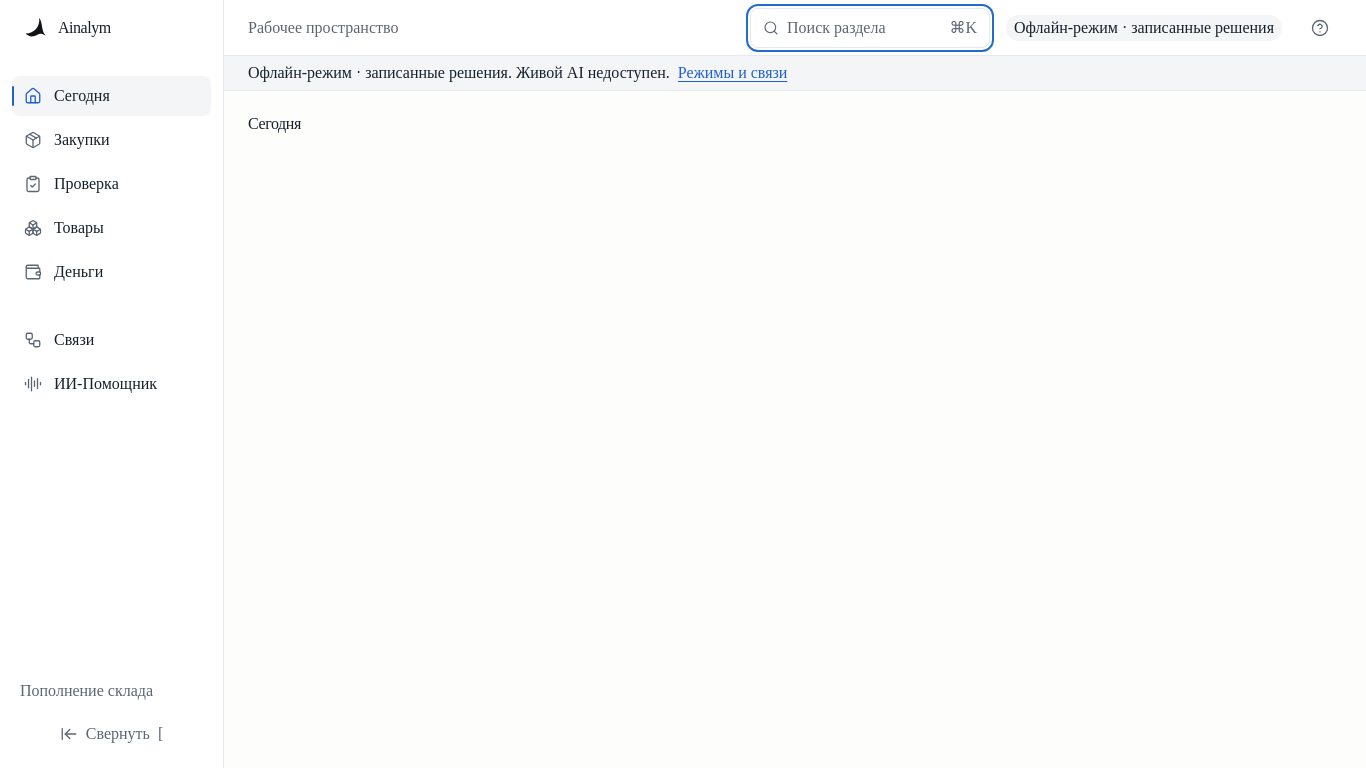
Scenario: a_live snapshots and shell › shows offline replay and restores focus after closing the keyboard palette
Expected: the text "Офлайн-режим · записанные решения. Живой AI недоступен" is shown, [248,64,670,81]
What coordinates should you click on to do the following:
click the button "Поиск раздела ⌘K"
I would click on:
 (870, 28)
Its box is [750,8,990,48].
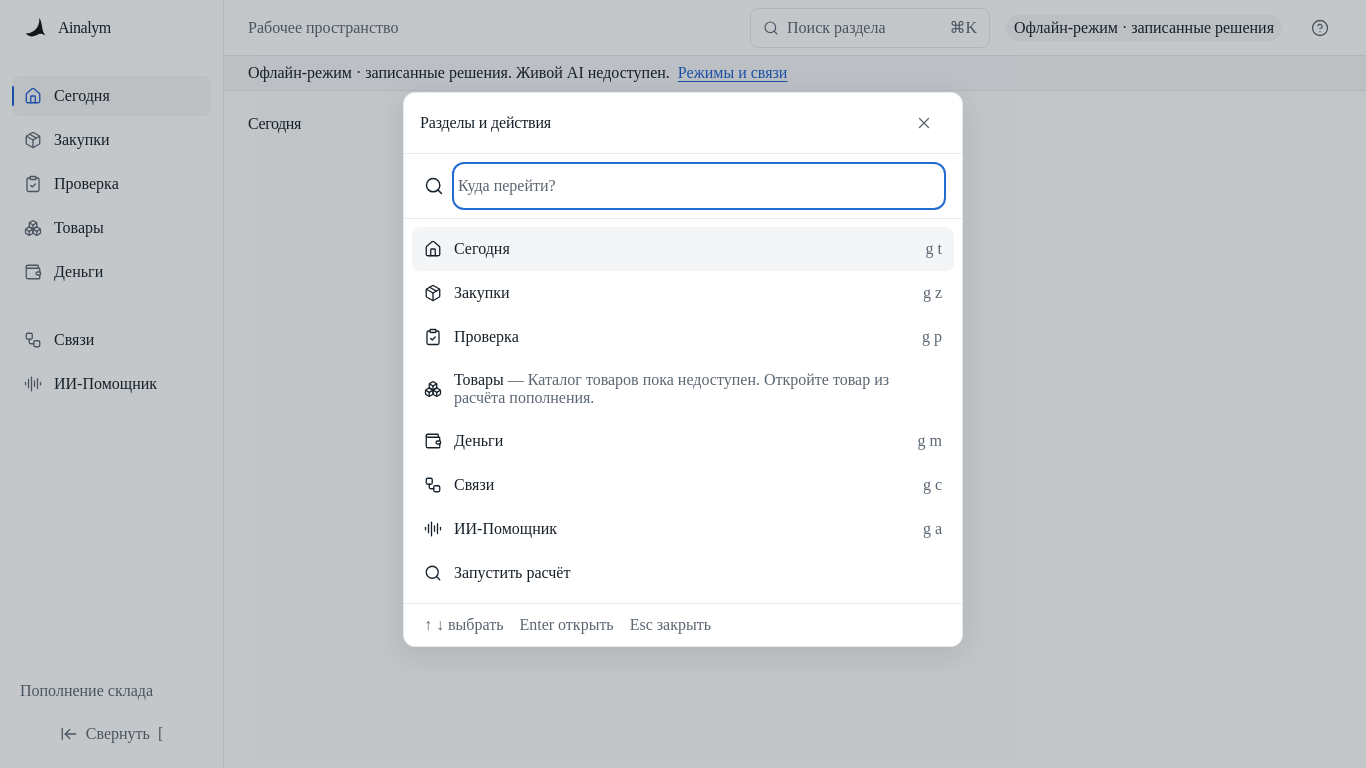
Expected: the dialog is shown, [403,92,963,647]
What coordinates should you click on to do the following:
click the button named "Закрыть"
I would click on:
 (924, 123)
Its box is [902,105,946,141].
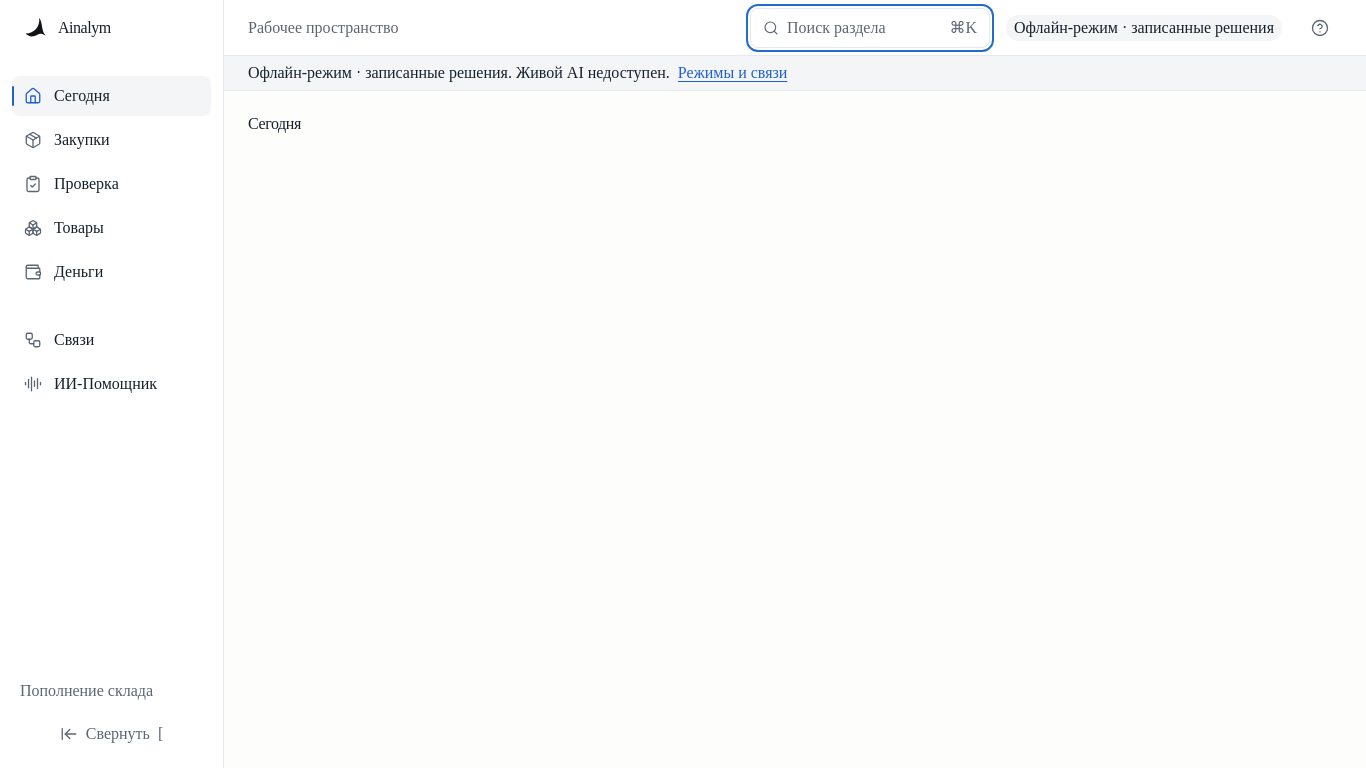
Expected: the dialog is gone
